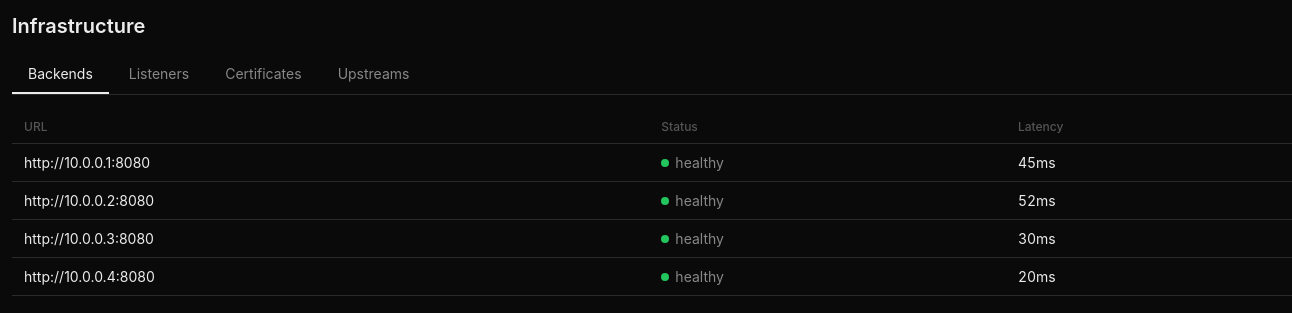
Test: InfrastructurePage › certificates tab highlights expiring certs
Click the tab "Certificates".
click(263, 75)  # box x1=209 y1=56 x2=318 y2=94
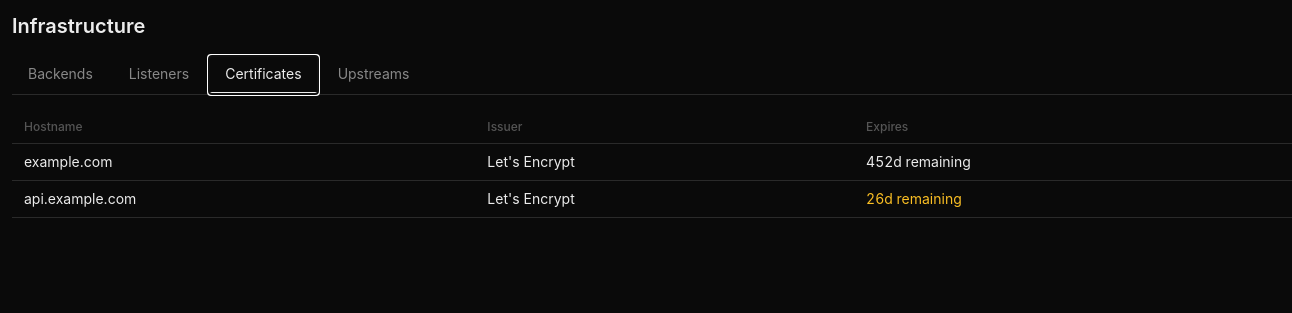
Expected: the text "26d remaining" is shown, x1=866 y1=190 x2=962 y2=207
